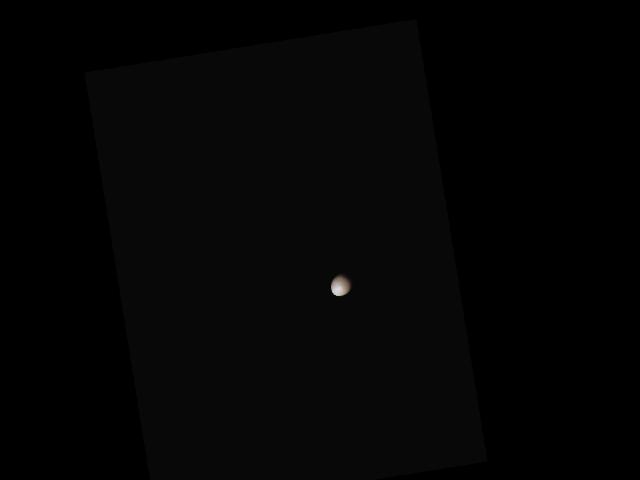egg: (328, 270, 354, 297)
